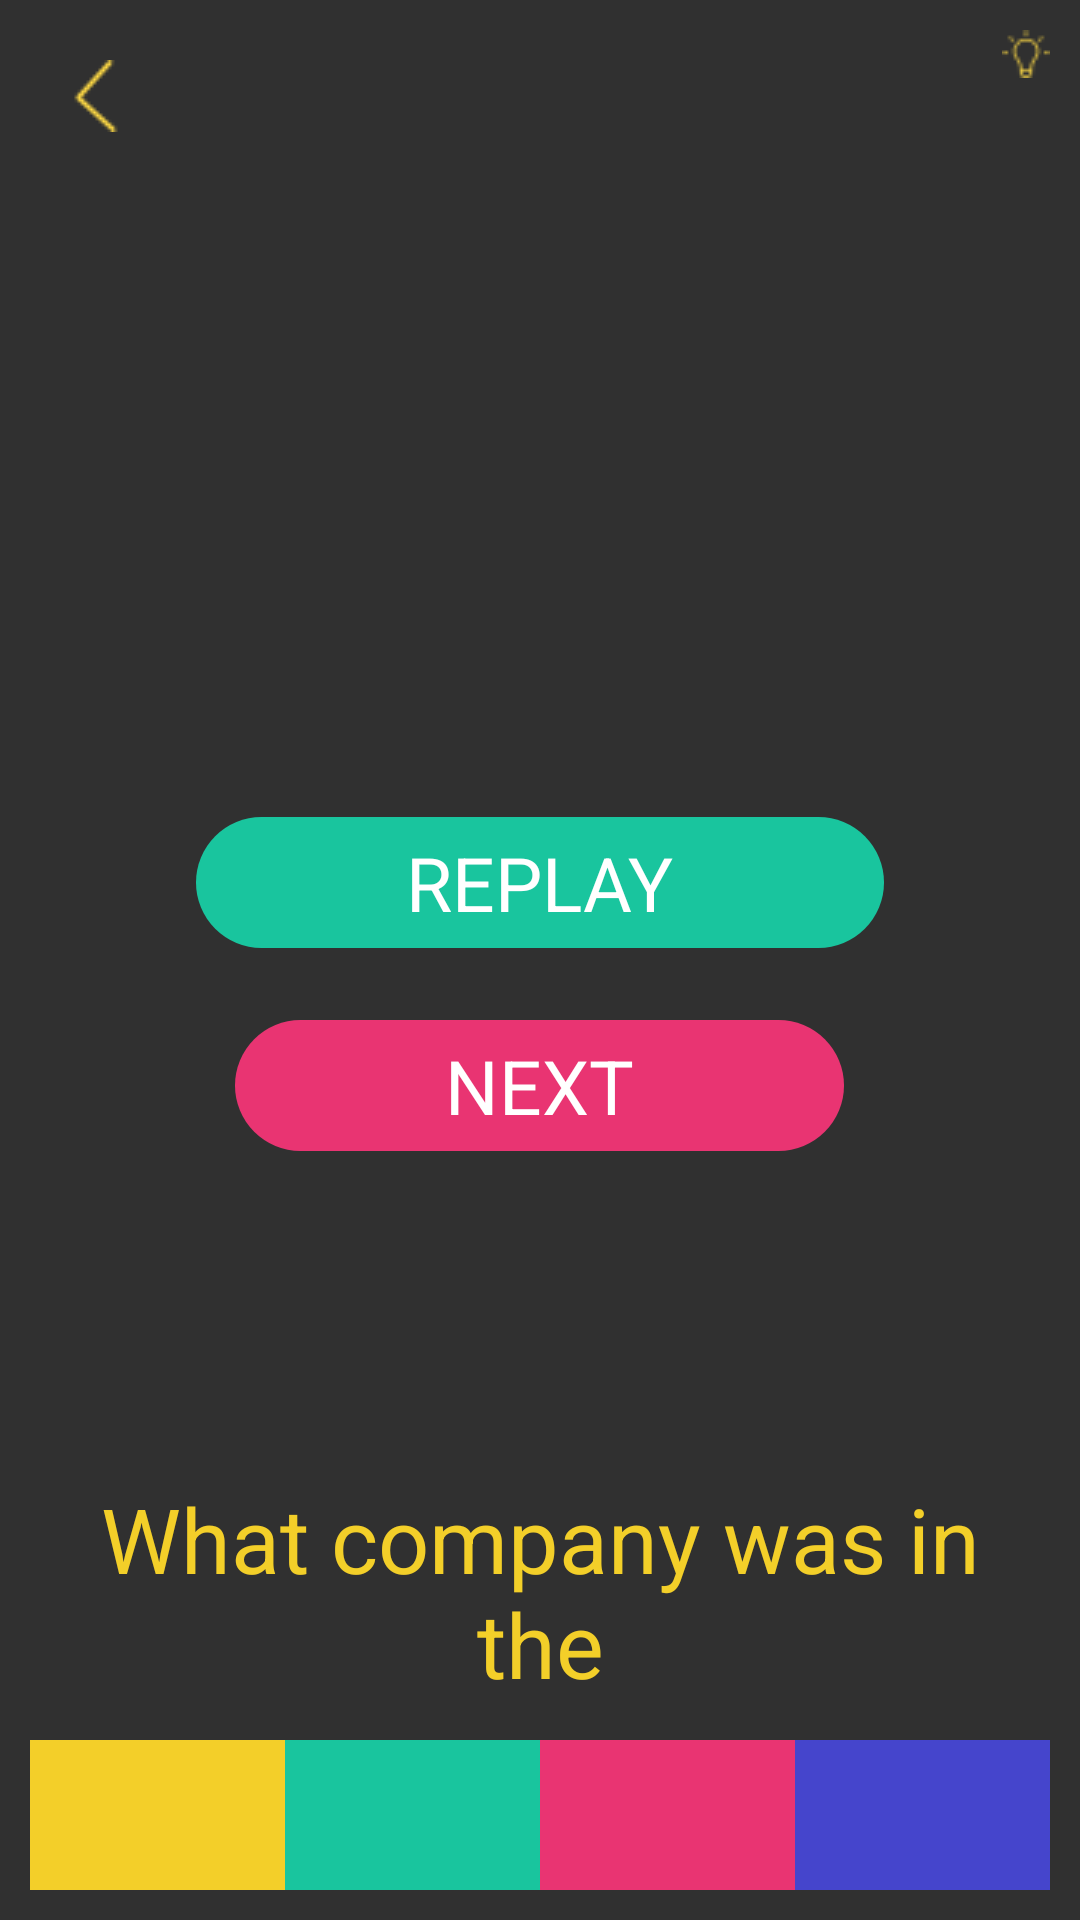

Where icons sit on this 1080 × 1920 app screen, as (x1, y1, x2, y2):
arrow: (74, 60, 117, 132)
lightbulb: (1002, 30, 1050, 78)
